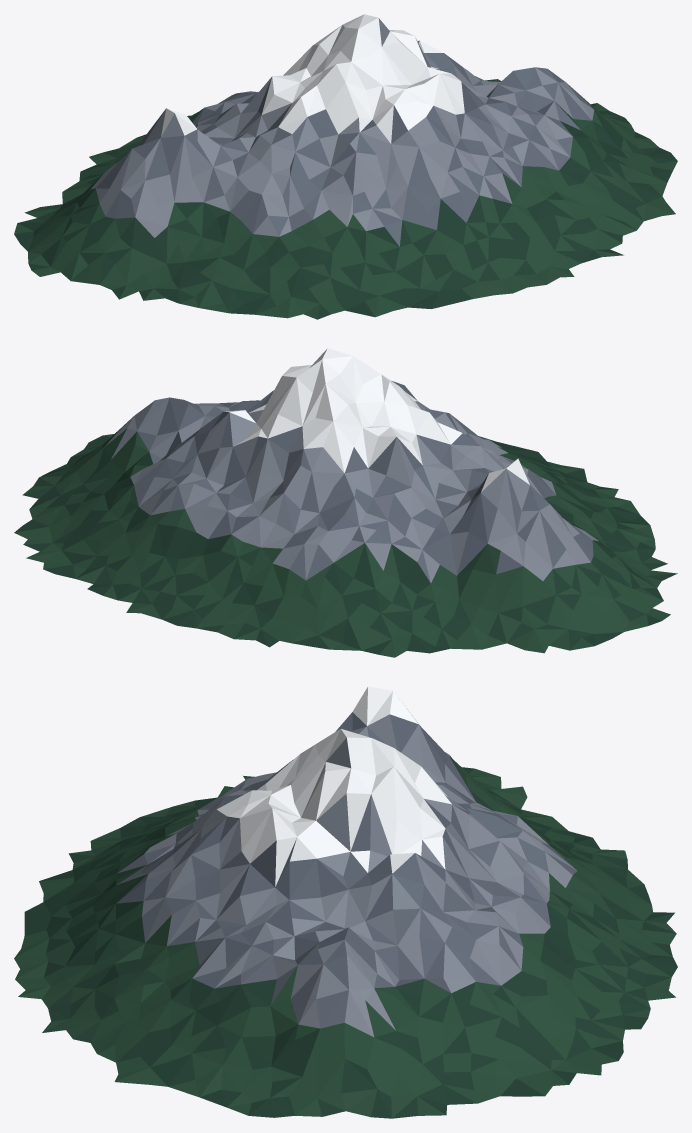
The model's file is mountain_c.glb.
3 views of the same model, one above another, from view 1: azimuth 30°, elevation 25°; view 2: azimuth 150°, elevation 25°; view 3: azimuth 270°, elevation 25° (orthographic). The views are drawn at different scales.
Parts seen in each view (by area): view 1: mountain_mesh; view 2: mountain_mesh; view 3: mountain_mesh.
Boxes of the visible parts, box(x1,y1,x2,y2) form: mountain_mesh: box(14, 14, 677, 319); mountain_mesh: box(14, 348, 677, 657); mountain_mesh: box(14, 686, 677, 1118).
Size of the model in its own units: 2.63 by 0.7431 by 2.02.
